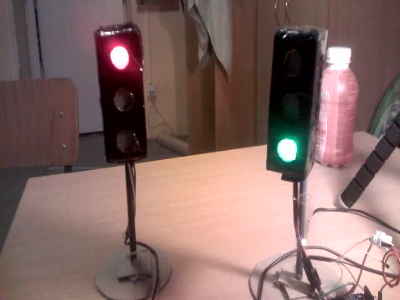trafficlight_green: (269, 37, 315, 171)
trafficlight_red: (98, 34, 143, 157)
